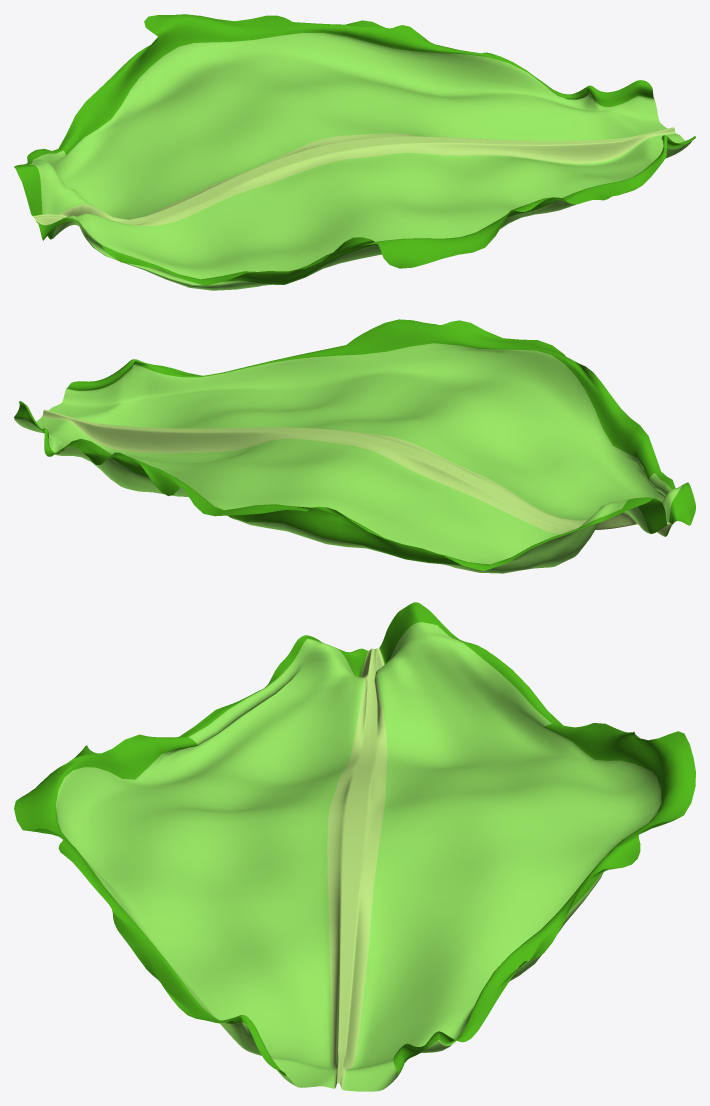
3 renders of one model, top to bottom at view 1: azimuth 30°, elevation 25°; view 2: azimuth 150°, elevation 25°; view 3: azimuth 270°, elevation 25°, orthographic. The views are drawn at different scales.
Parts seen in each view (by area): view 1: Hoja Lechuga.008; view 2: Hoja Lechuga.008; view 3: Hoja Lechuga.008.
Part boxes in pixels (x1,y1,x2,y2): Hoja Lechuga.008: [14, 14, 695, 290]; Hoja Lechuga.008: [14, 319, 695, 573]; Hoja Lechuga.008: [14, 602, 695, 1091].
Bounding box in the file's own units: 2 × 0.3488 × 1.53.
